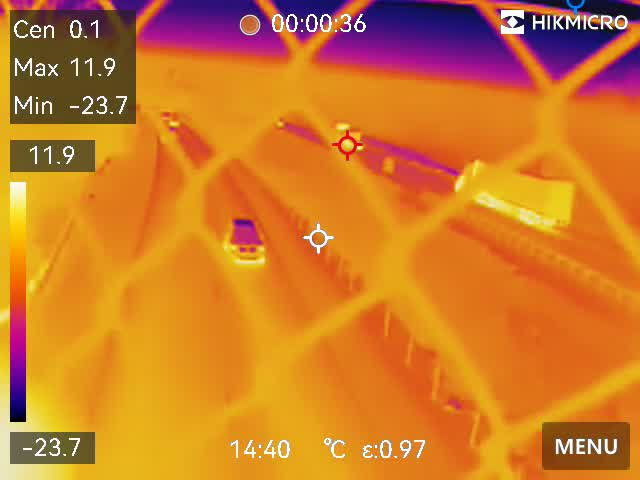heavyTruck: (454, 158, 574, 226)
vehicle: (224, 214, 266, 267)
